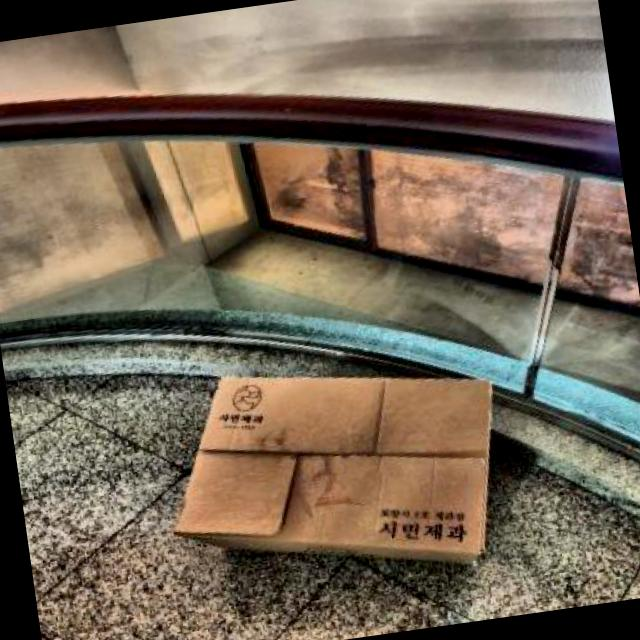box: (157, 328, 524, 620)
